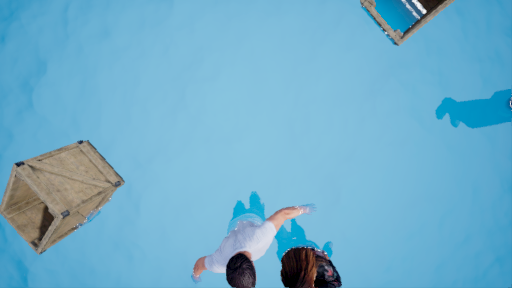person: (197, 190, 336, 288)
